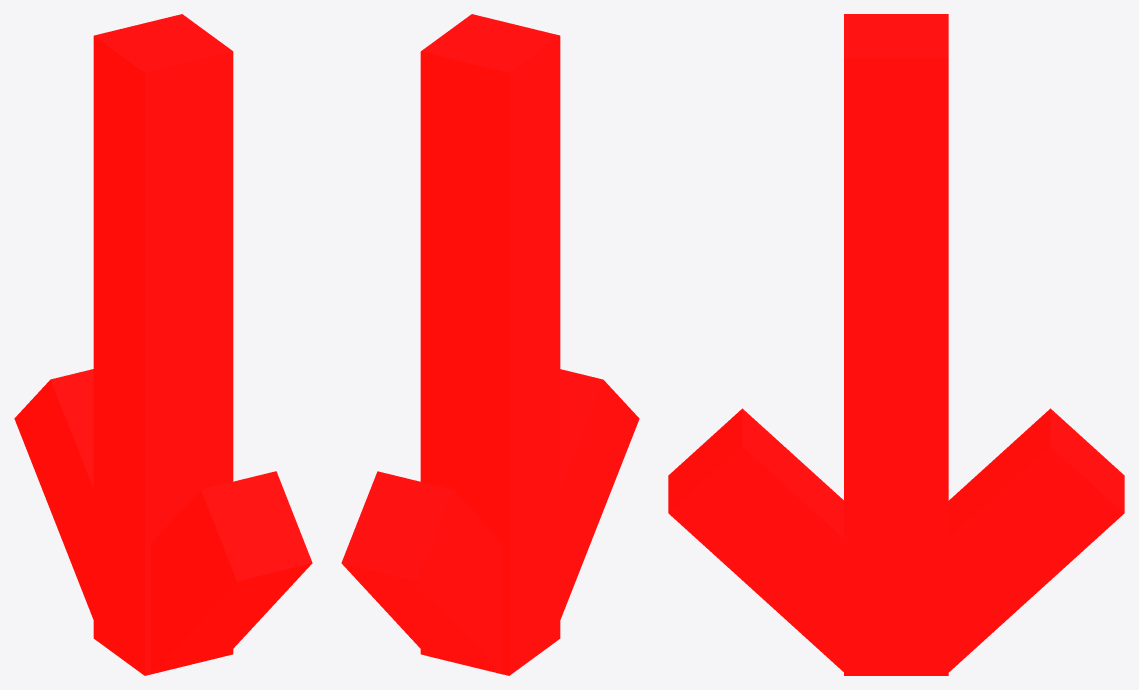
Rendered from Arrow01.gltf.
3 views of the same model, side by side, from view 1: azimuth 30°, elevation 25°; view 2: azimuth 150°, elevation 25°; view 3: azimuth 270°, elevation 25° (orthographic). The views are drawn at different scales.
Parts seen in each view (by area): view 1: Cube.001; view 2: Cube.001; view 3: Cube.001.
Boxes of the visible parts, box(x1,y1,x2,y2) form: Cube.001: box(14, 14, 312, 675); Cube.001: box(341, 14, 639, 675); Cube.001: box(668, 14, 1124, 675).
Bounding box in the file's own units: 0.4049 × 2.64 × 1.76.
